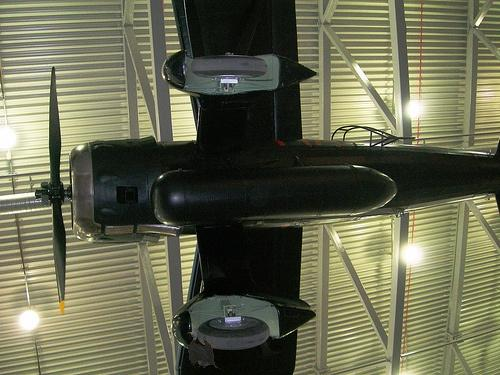tampered: (188, 333, 242, 371)
